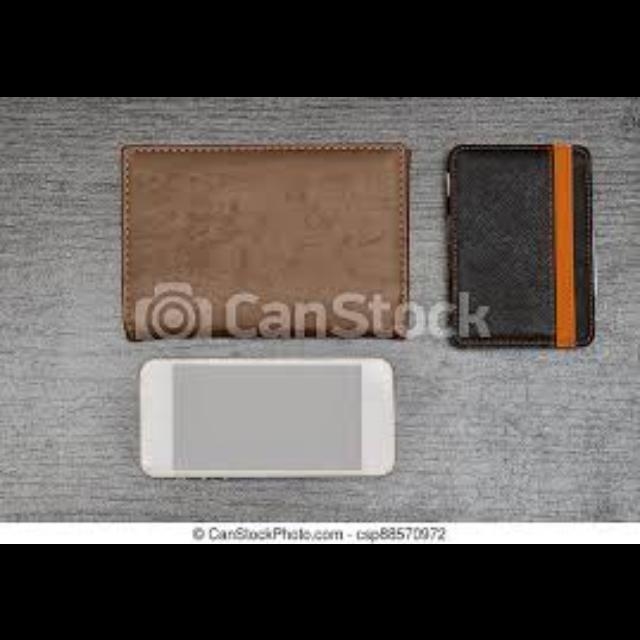wallet: (96, 110, 448, 352), (434, 112, 640, 348)
